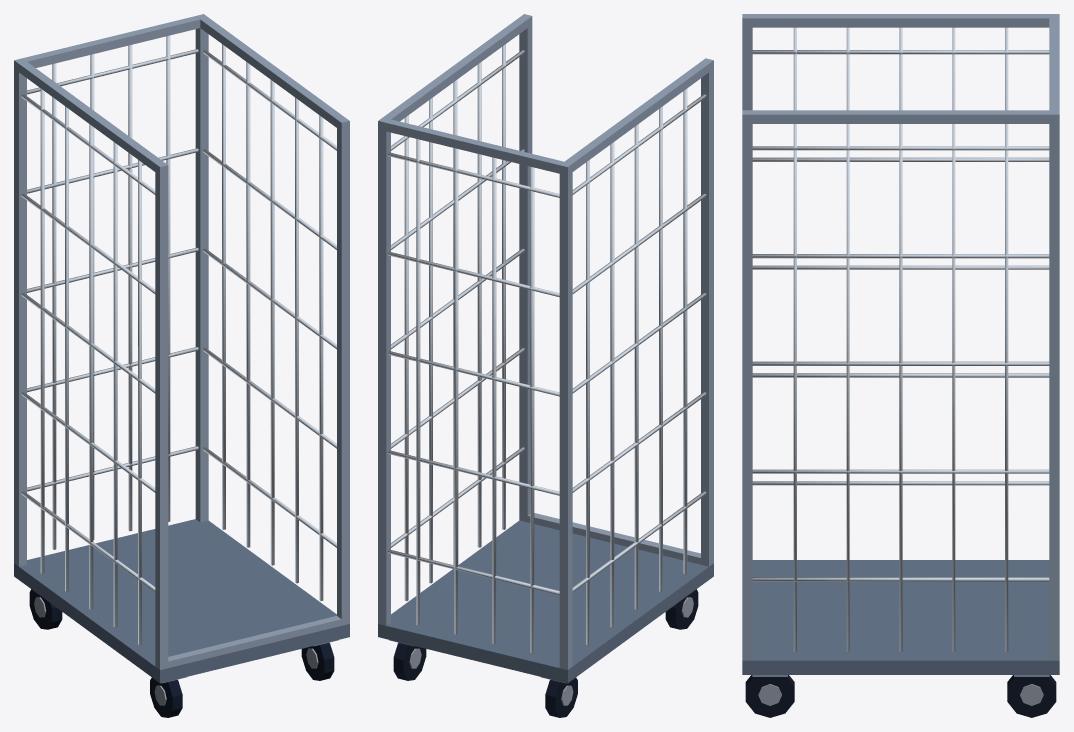
File: roll_cage.glb
3 renders of one model, left to right at view 1: azimuth 30°, elevation 25°; view 2: azimuth 150°, elevation 25°; view 3: azimuth 270°, elevation 25°, orthographic. The views are drawn at different scales.
Visible parts, largest first — view 1: roll_cage; view 2: roll_cage; view 3: roll_cage.
Part boxes in pixels (x1,y1,x2,y2): roll_cage: (14, 14, 349, 717); roll_cage: (378, 14, 713, 717); roll_cage: (742, 14, 1059, 717).
Bounding box in the file's own units: 0.6 × 1.7 × 0.8.
